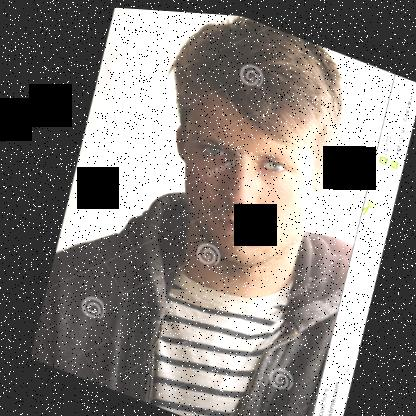Male: (135, 58, 355, 287)
